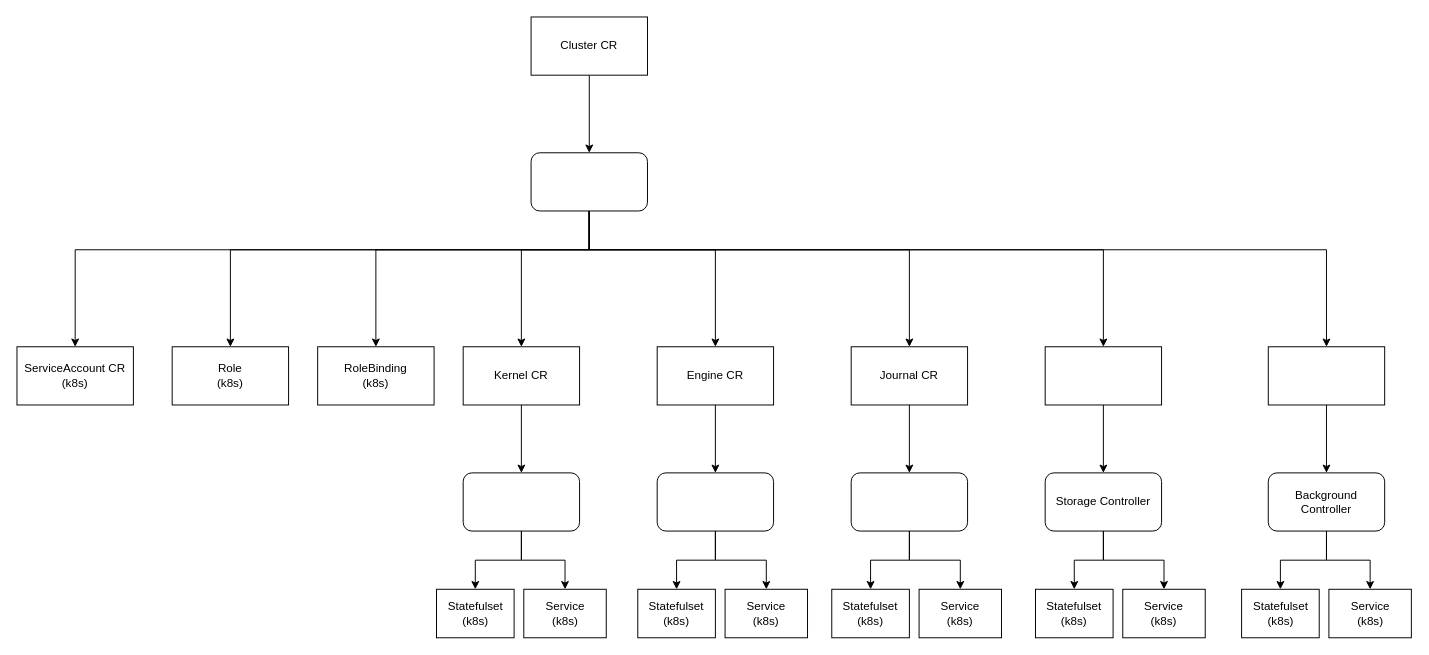
The diagram is 1429 pixels wide and 655 high, and some of its shapes have lost their labels. The shapes that lost their labels are listed below. From the top down, each one's centre as x and y in pixels, then its label:
the point at 588,181: Cluster Controller
the point at 1103,375: Storage CR
the point at 1326,375: Background CR
the point at 521,501: Kernel Controller
the point at 715,501: Engine Controller
the point at 909,501: Journal Controller
